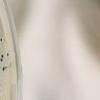Blue_green: (0, 36, 3, 43), (2, 65, 5, 72), (1, 53, 4, 58), (7, 52, 9, 59), (0, 58, 3, 62), (5, 65, 7, 70)
